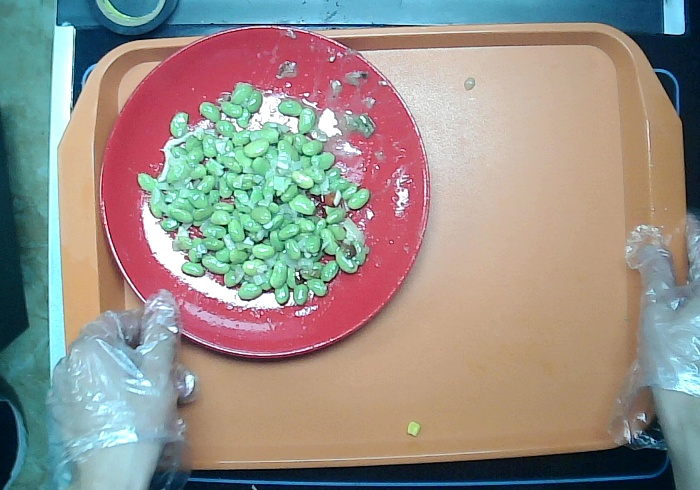HZYJPL-Hong_Se_Yuan_Pan: (91, 21, 436, 367)
